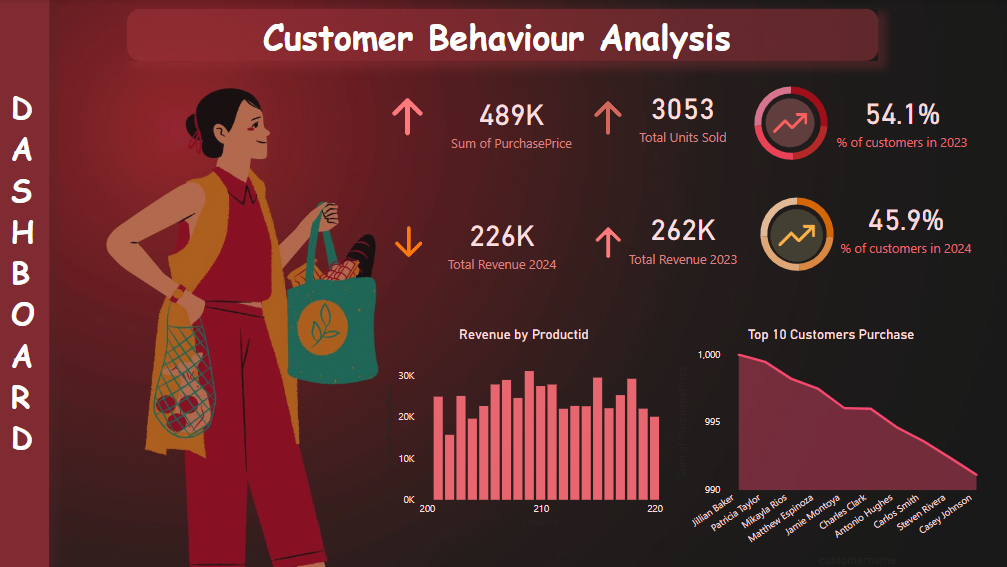

Layout of this report page (visuals, bound fields, positions):
{"tool":"powerbi","page":{"name":"Page 1","canvas":[1280,720],"ordinal":0},"visuals":[{"type":"card","fields":{"Values":["Sheet1.PurchasePrice"]},"box":[556.3,104.9,189.1,97],"z":0},{"type":"card","fields":{"Values":["Sheet1.PurchaseQuantity"]},"box":[764.5,95.4,201.9,104.9],"z":1000},{"type":"image","box":[487.9,276.6,66.8,62],"z":2000},{"type":"image","box":[745.4,282.9,55.6,49.3],"z":3000},{"type":"image","box":[966.4,116,71.5,84.2],"z":4000},{"type":"image","box":[486.4,120.8,68.3,57.2],"z":5000},{"type":"image","box":[745.4,125.6,55.6,52.5],"z":6000},{"type":"card","fields":{"Values":["Sheet1.PurchasePrice"]},"box":[770.9,251.1,190.7,97],"z":7000},{"type":"card","fields":{"Values":["Sheet1.PurchasePrice"]},"box":[530.9,251.1,214.6,109.7],"z":8000},{"type":"stackedAreaChart","title":"Top 10 Customers Purchase","fields":{"Category":["Sheet1 (2).customername"],"Y":["Sheet1.PurchasePrice"]},"box":[851.9,413.2,402.1,306.8],"z":9000},{"type":"columnChart","title":"Revenue by Productid","fields":{"Y":["Sheet1.PurchasePrice"],"Category":["Sheet1 (3).productid"]},"box":[485.7,413.9,360.9,257],"z":10000},{"type":"donutChart","fields":{"Category":["Sheet1.PurchaseDate.Variation.Date Hierarchy.Quarter"],"Y":["Sheet1.PurchasePrice"]},"box":[890.1,235.2,240,125.6],"z":11000},{"type":"image","box":[966.4,260.7,89,76.3],"z":12000},{"type":"donutChart","fields":{"Category":["Sheet1.PurchaseDate.Variation.Date Hierarchy.Quarter"],"Y":["Sheet1.PurchasePrice"]},"box":[882.1,95.4,240,125.6],"z":13000},{"type":"shape","box":[0,0,68.3,720],"z":14000},{"type":"textbox","box":[15.1,105.8,52.9,489.5],"z":14001},{"type":"card","fields":{"Values":["Sheet1.percentage"]},"box":[1029.9,90.7,224.9,124.7],"z":14002},{"type":"card","fields":{"Values":["Sheet1.percentage"]},"box":[1054.5,236.2,185.2,100.2],"z":14003},{"type":"shape","box":[166.3,13.2,946.8,66.1],"z":14004},{"type":"textbox","box":[332.6,13.2,612.3,107.7],"z":14005}]}

Visuals, with their boxes in screenshot pixels (x1, y1, x2, y2), scaled from the page's 1280x720 canvas onto the 1007x567 screenshot:
card - Sheet1.PurchasePrice: 438 83 586 159
card - Sheet1.PurchaseQuantity: 601 75 760 158
image: 384 218 436 267
image: 586 223 630 262
image: 760 91 817 158
image: 383 95 436 140
image: 586 99 630 140
card - Sheet1.PurchasePrice: 606 198 757 274
card - Sheet1.PurchasePrice: 418 198 586 284
"Top 10 Customers Purchase" stackedAreaChart: 670 325 987 566
"Revenue by Productid" columnChart: 382 326 666 528
donutChart - Sheet1.PurchaseDate.Variation.Date Hierarchy.Quarter x Sheet1.PurchasePrice: 700 185 889 284
image: 760 205 830 265
donutChart - Sheet1.PurchaseDate.Variation.Date Hierarchy.Quarter x Sheet1.PurchasePrice: 694 75 883 174
shape: 0 0 54 566
textbox: 12 83 53 469
card - Sheet1.percentage: 810 71 987 170
card - Sheet1.percentage: 830 186 975 265
shape: 131 10 876 62
textbox: 262 10 743 95
